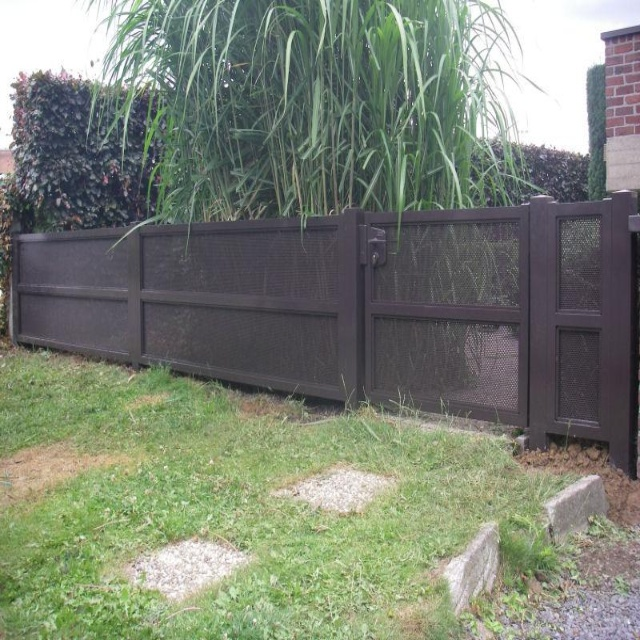obstacle: (301, 311, 640, 493), (0, 319, 265, 490)
